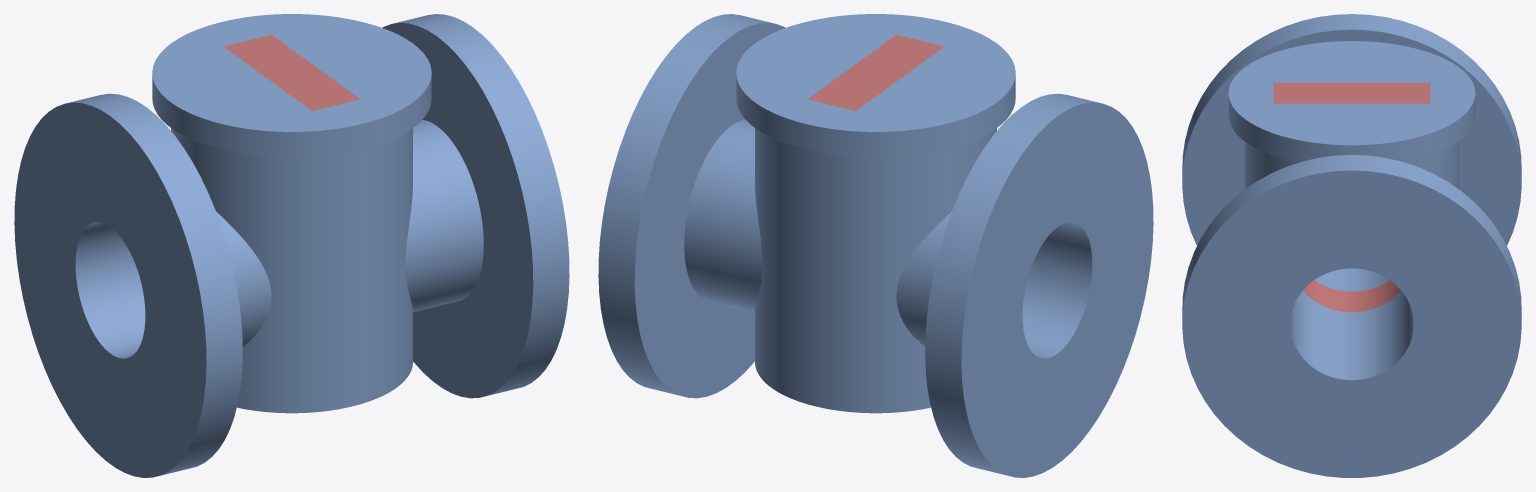
Rendered from step_13.glb.
3 renders of one model, left to right at view 1: azimuth 30°, elevation 25°; view 2: azimuth 150°, elevation 25°; view 3: azimuth 270°, elevation 25°, orthographic. The views are drawn at different scales.
Visible parts, largest first — view 1: part__body top valve, removed__body top valve; view 2: part__body top valve, removed__body top valve; view 3: part__body top valve, removed__body top valve.
Boxes of the visible parts, <box> form: part__body top valve: <box>14,14,569,477</box>; removed__body top valve: <box>224,34,359,110</box>; part__body top valve: <box>598,14,1153,477</box>; removed__body top valve: <box>808,34,943,110</box>; part__body top valve: <box>1182,14,1521,477</box>; removed__body top valve: <box>1273,82,1430,312</box>.
Bounding box in the file's own units: 180 × 165 × 165.
